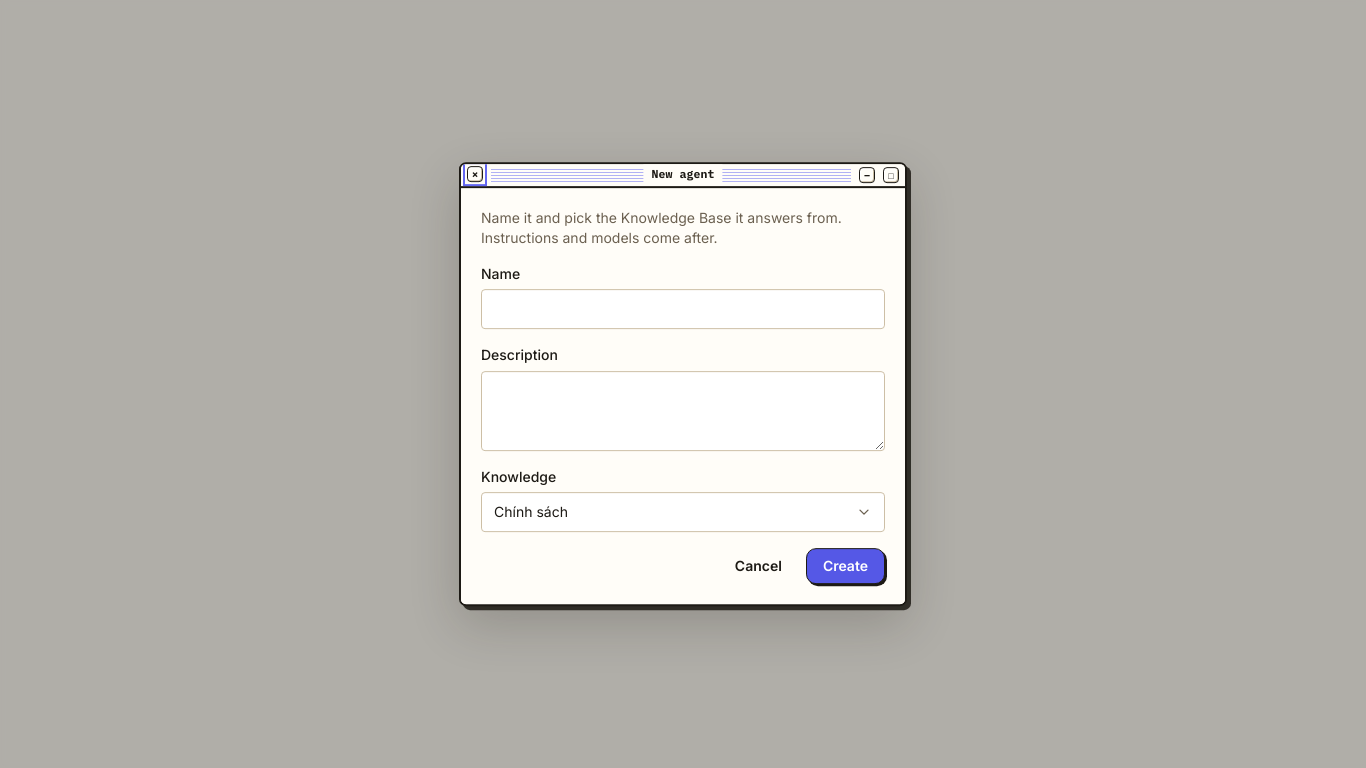
Test: NewAgentDialog › clears a taken-name error when the name changes
The image size is (1366, 768).
Type "Pháp chế" into the field labelled "Name".
click(683, 309); type("Pháp chế")  # box [481, 289, 885, 329]
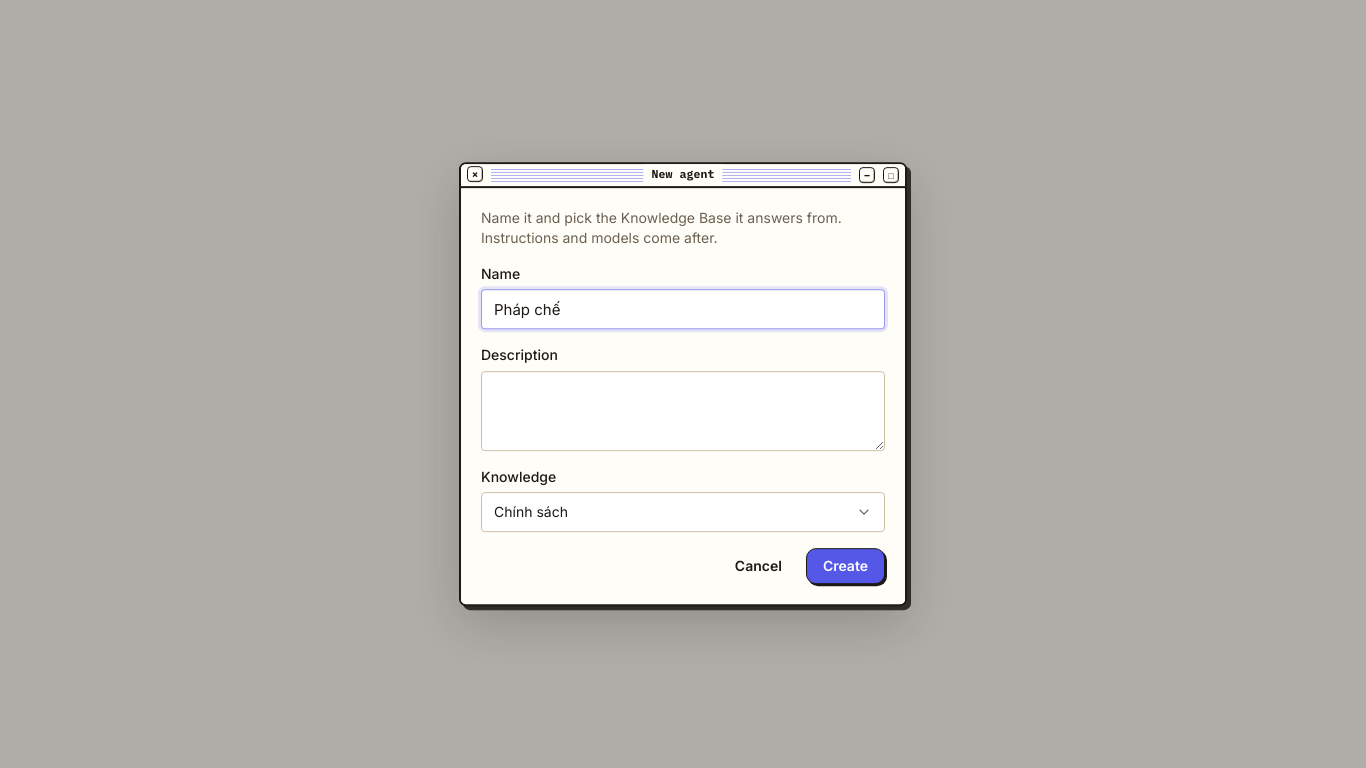
Click the button "Create".
click(845, 566)  # box [806, 548, 885, 584]
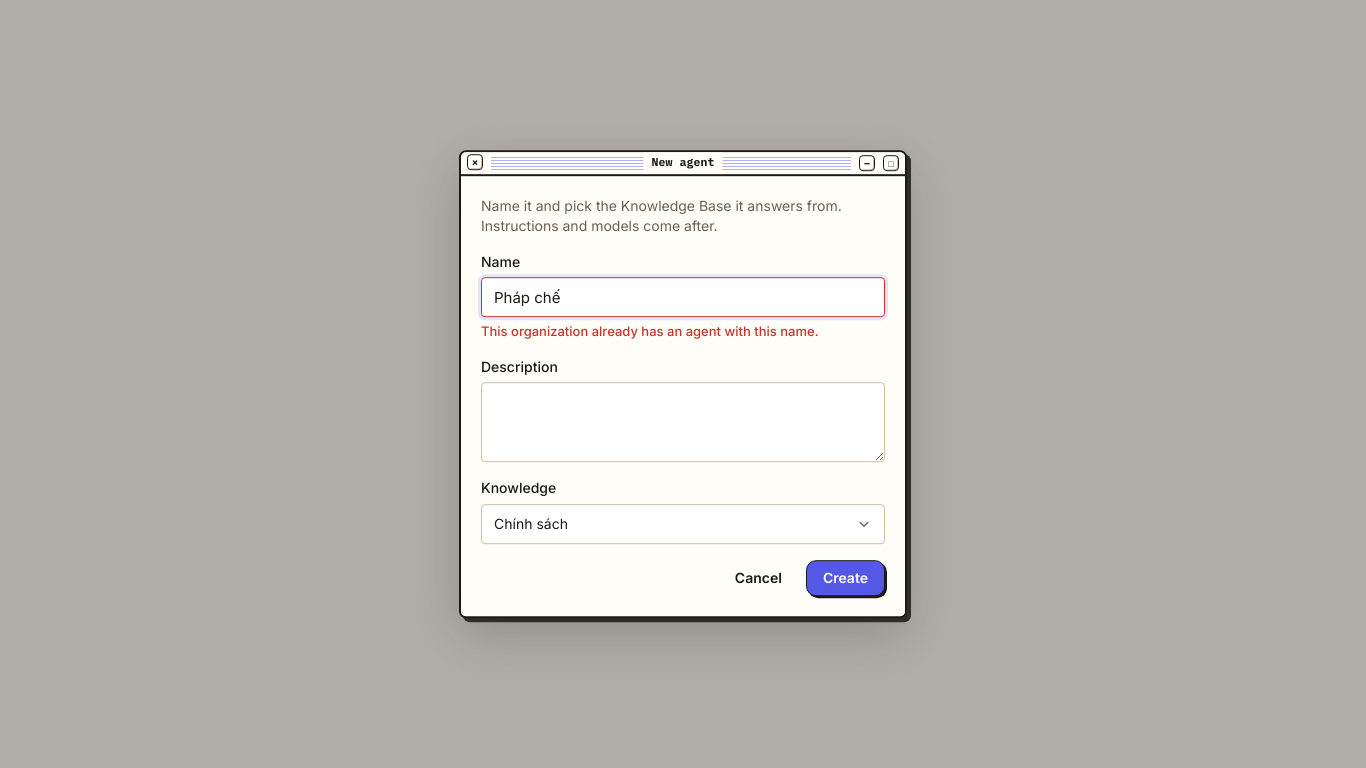
Now the text "This organization already has an agent with this name." is shown, box [481, 323, 819, 339]
Type " mới" into the field labelled "Name".
click(683, 297); type(" mới")  # box [481, 277, 885, 317]
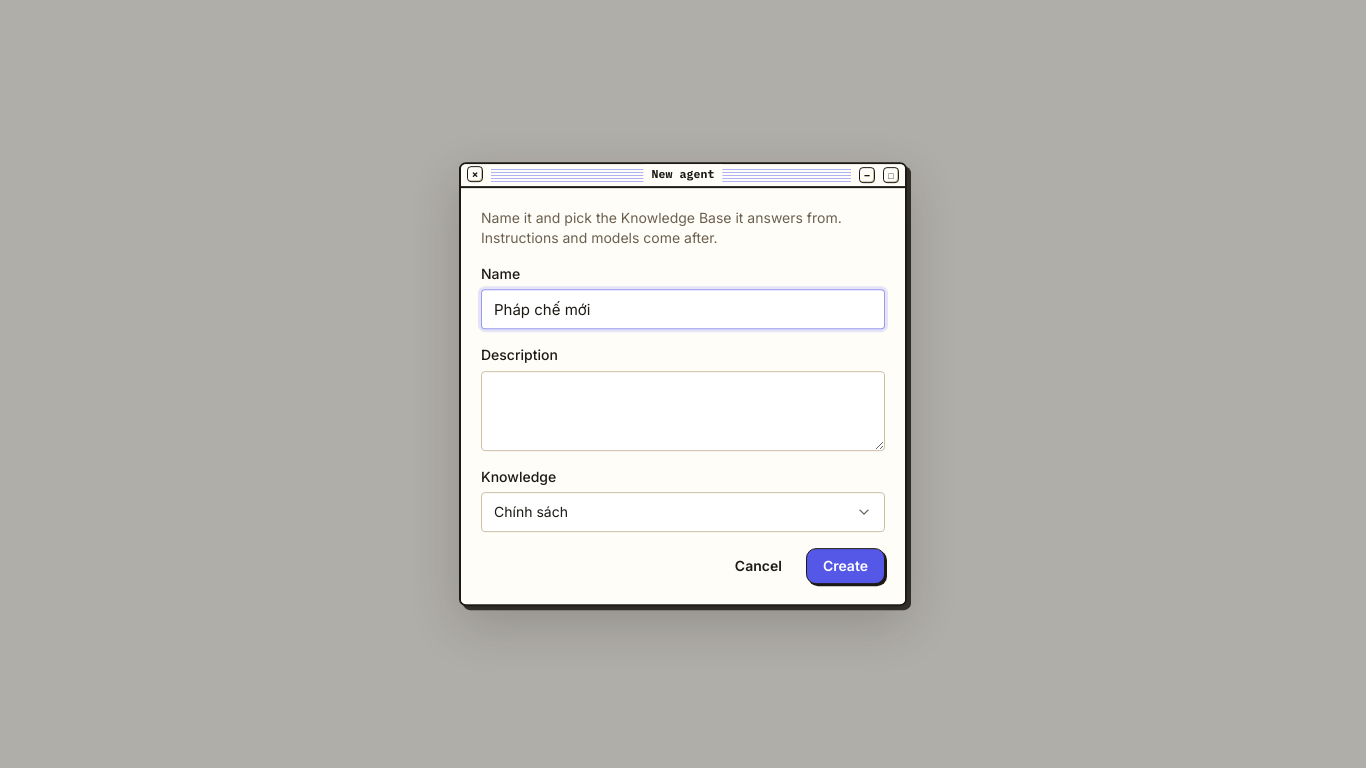
Now the text "This organization already has an agent with this name." is gone
